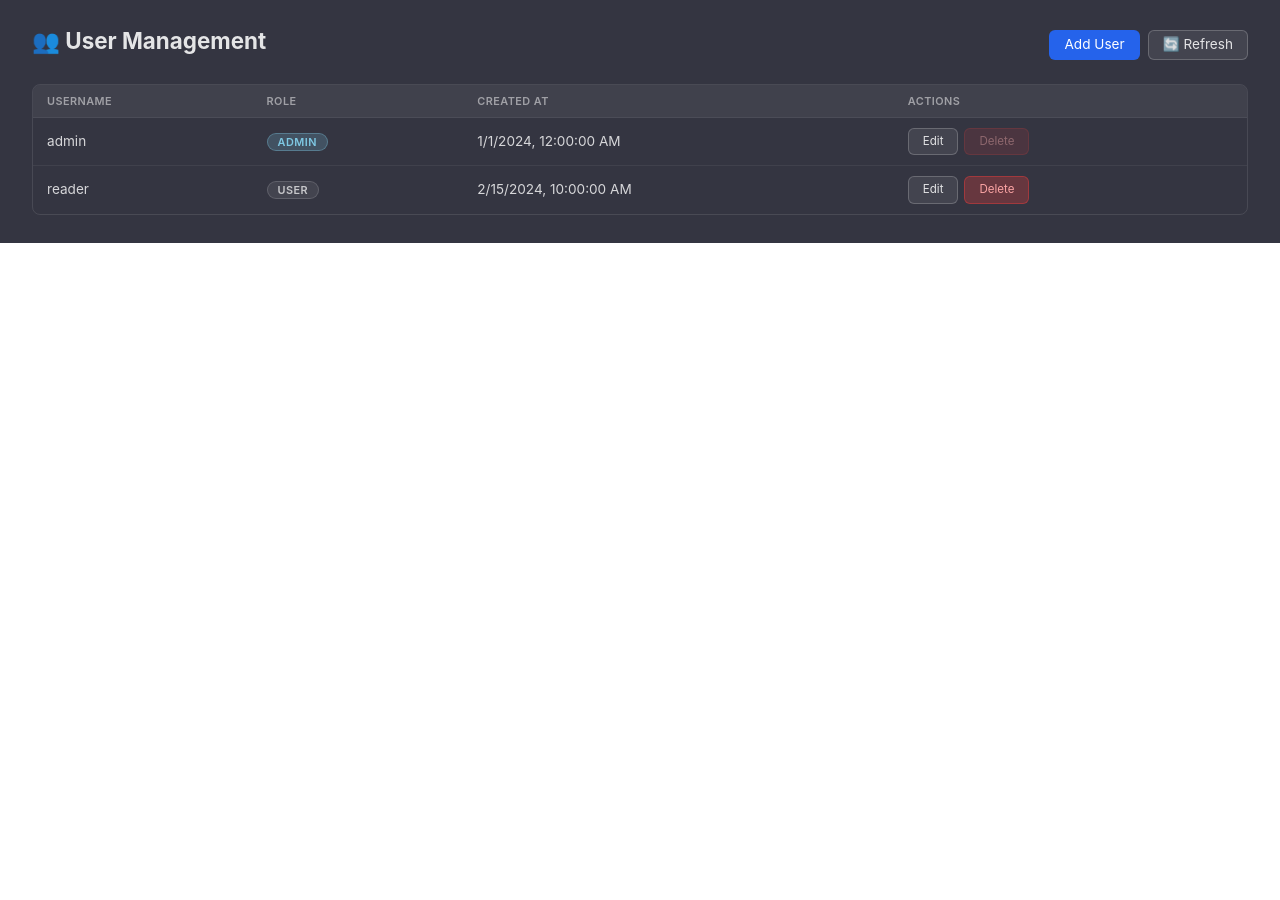
Test: UserManagementPage › opens and closes the add user modal
This screenshot has width=1280, height=900.
Click the button "Add User".
click(1095, 45)  # box [1050, 30, 1140, 60]
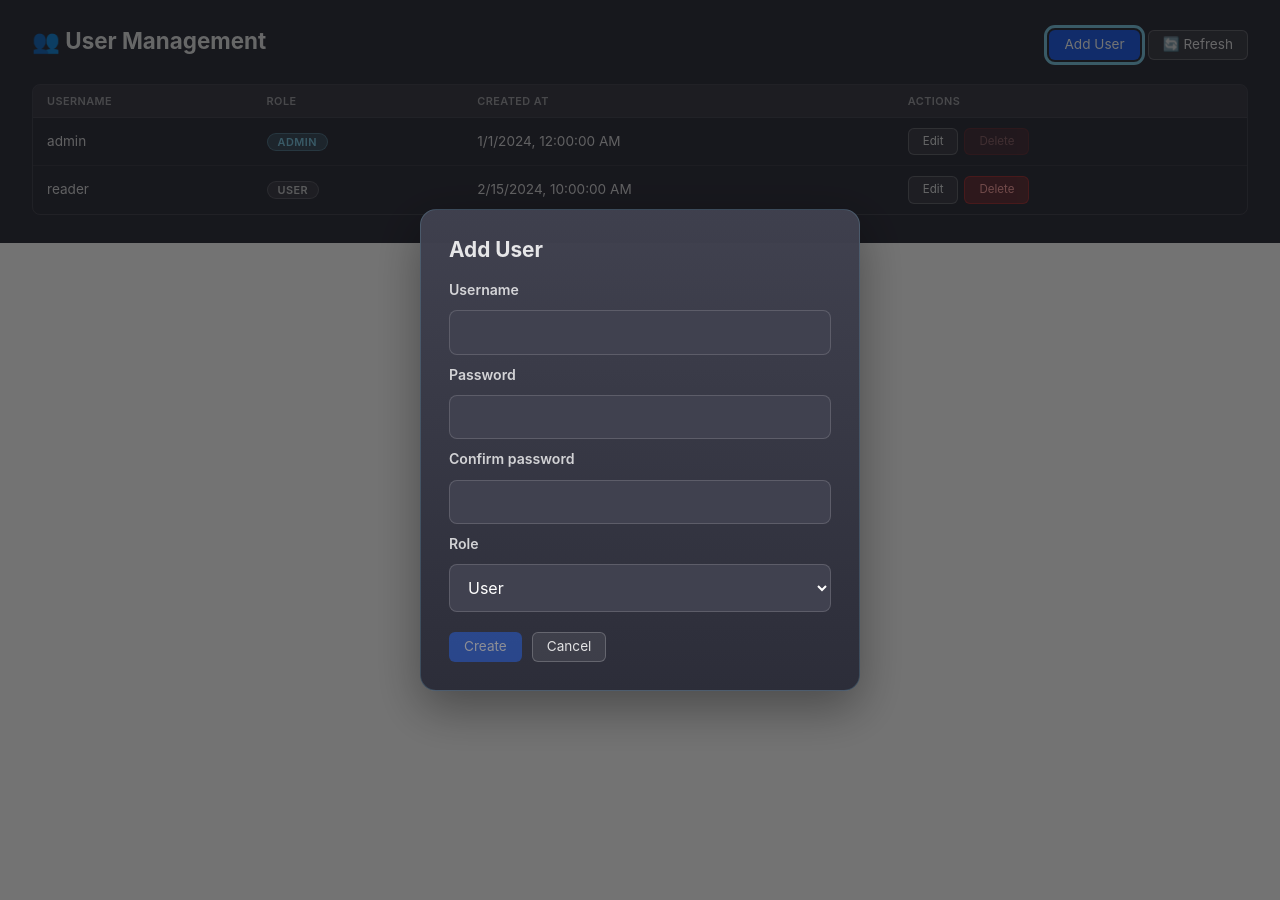
Expected: the dialog is shown, [420, 209, 860, 691]
Expected: the field labelled "Username" is shown, [449, 310, 831, 355]
Expected: the password field labelled "Password" is shown, [449, 395, 831, 439]
Click the button "Cancel".
click(569, 647)  # box [532, 632, 606, 662]
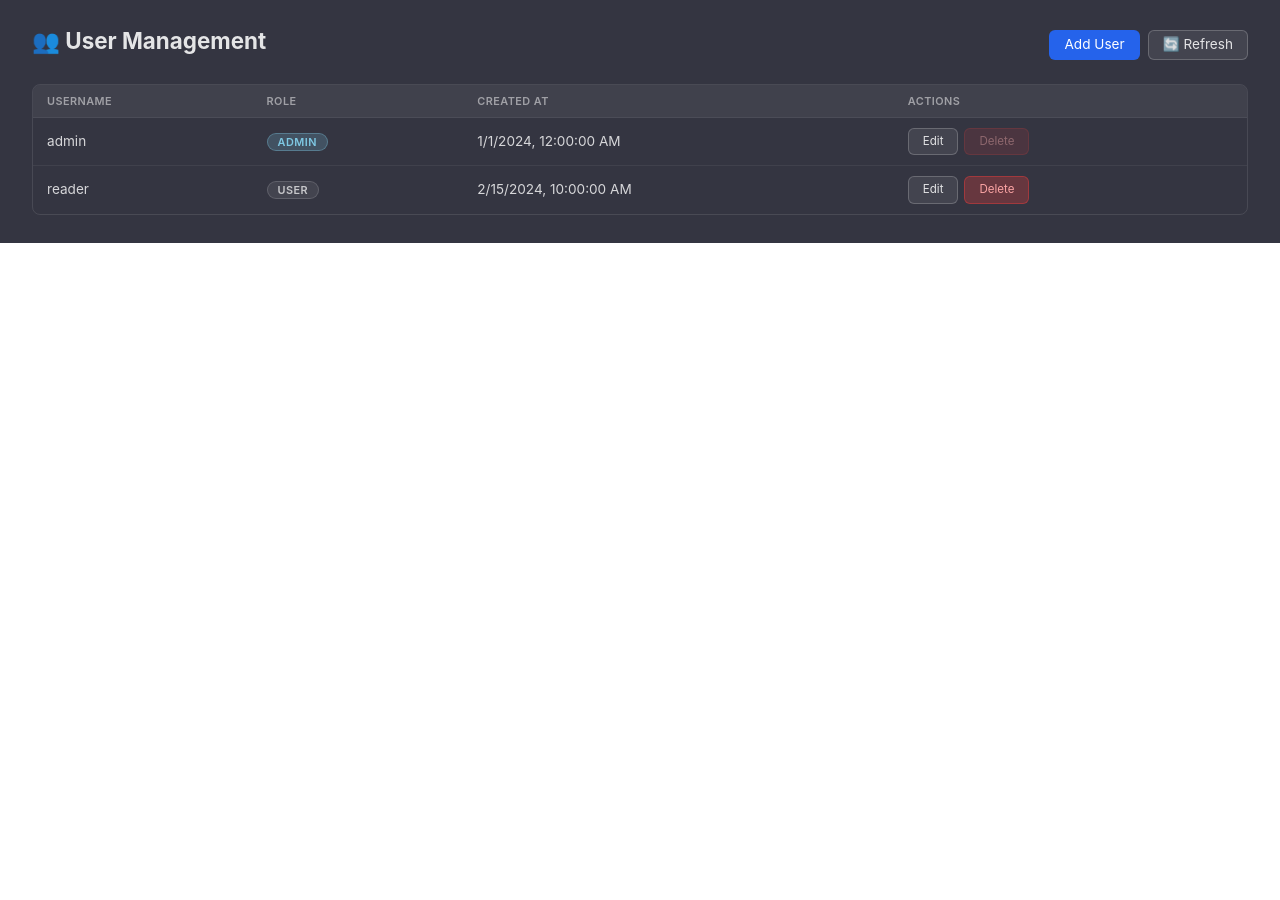
Expected: the dialog is gone
